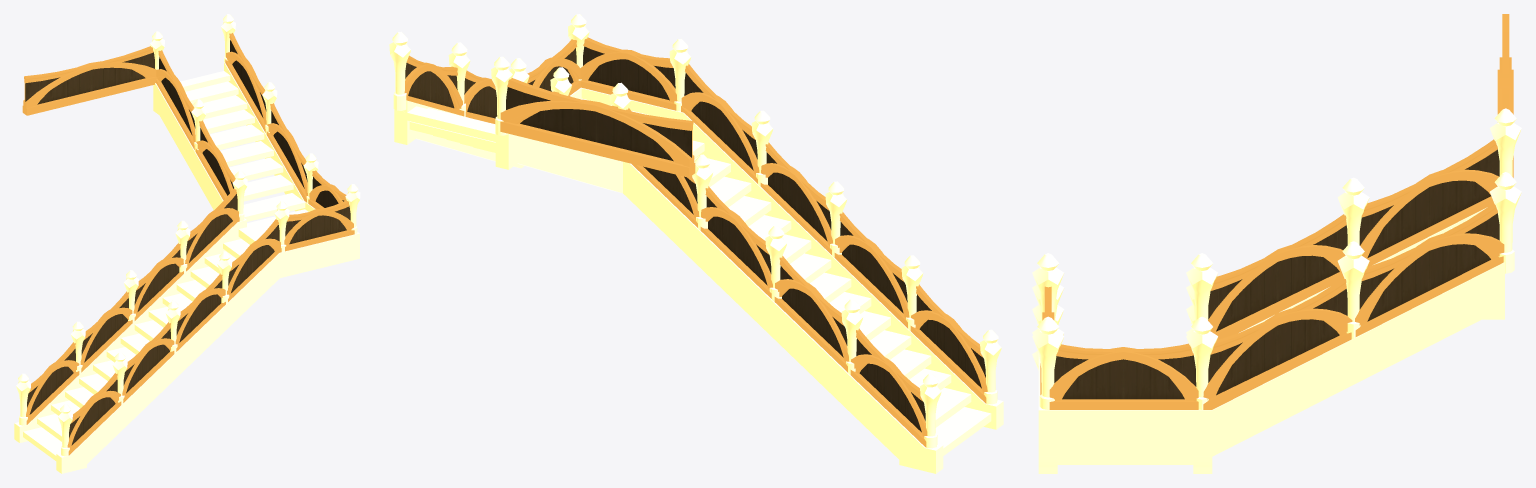
Rendered from Homeworld_Interior_Xm_Room_P_Stair_01_Vo.fbx.
The picture shows the model from 3 angles, left to right: view 1: azimuth 30°, elevation 25°; view 2: azimuth 150°, elevation 25°; view 3: azimuth 270°, elevation 25°; orthographic projection. The views are drawn at different scales.
Visible parts, largest first — view 1: Homeworld_Interior_Xm_Room_P_Stair_01_Vo; view 2: Homeworld_Interior_Xm_Room_P_Stair_01_Vo; view 3: Homeworld_Interior_Xm_Room_P_Stair_01_Vo.
Part boxes in pixels (x1,y1,x2,y2): Homeworld_Interior_Xm_Room_P_Stair_01_Vo: [14, 14, 360, 473]; Homeworld_Interior_Xm_Room_P_Stair_01_Vo: [389, 14, 1003, 473]; Homeworld_Interior_Xm_Room_P_Stair_01_Vo: [1032, 14, 1521, 473].
Bounding box in the file's own units: 6.46 × 6.01 × 4.93.
